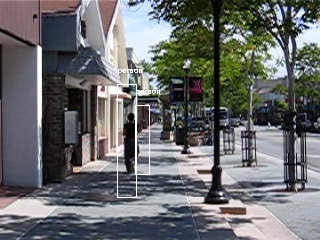person: (122, 113, 141, 174), (121, 113, 140, 174), (123, 113, 142, 174), (122, 112, 141, 173), (122, 114, 141, 175)
target_negative: (188, 112, 263, 221), (129, 185, 287, 209), (155, 192, 237, 212), (281, 166, 306, 199), (276, 16, 279, 112)
